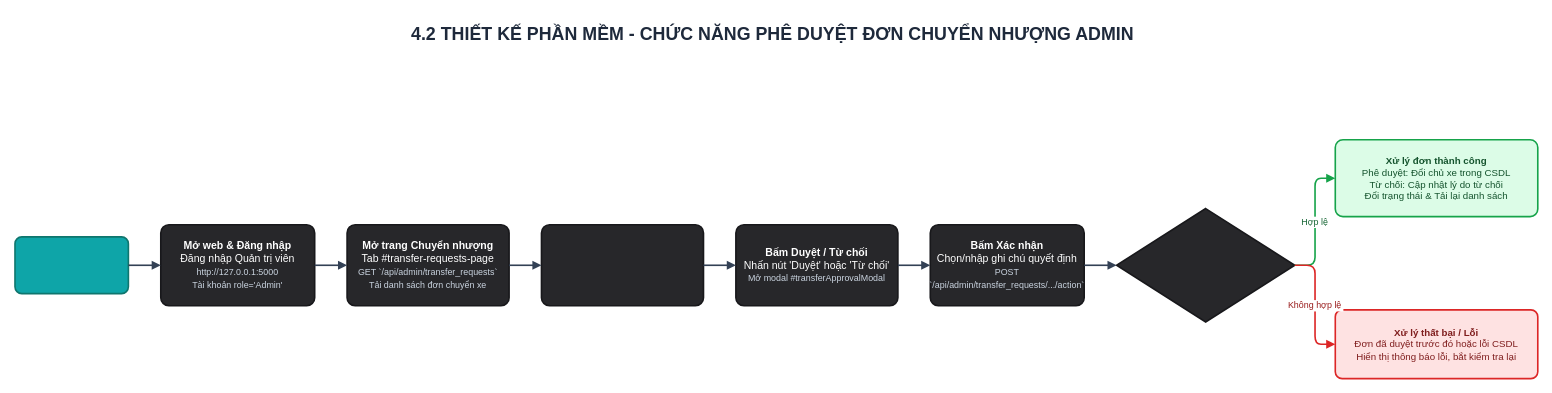
Some shapes in this 1552 by 393 pixel diagram are drawn without their labels. The shapes that lost their labels are listed below. From the top down, each one's box as (x1, y1, x2, y2) in pixels, then its label:
(14, 236, 129, 294): START
(540, 224, 704, 306): Xem & Chọn đơn Biển số xe, Cư dân chuyển/nhận Xem ảnh đơn & Trạng thái 'Pending'
(1115, 207, 1295, 322): Đơn hợp lệ trong CSDL? Đơn tồn tại & trạng thái Pending Quyền Admin hợp lệ
